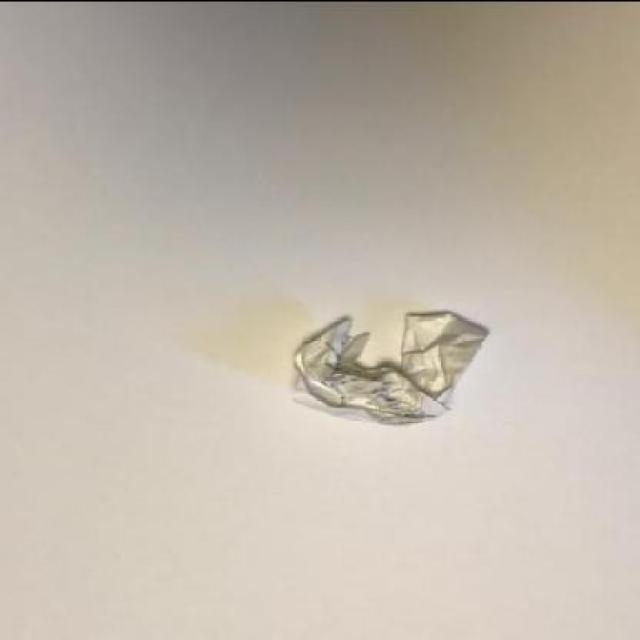PAPER: (290, 311, 492, 426)
